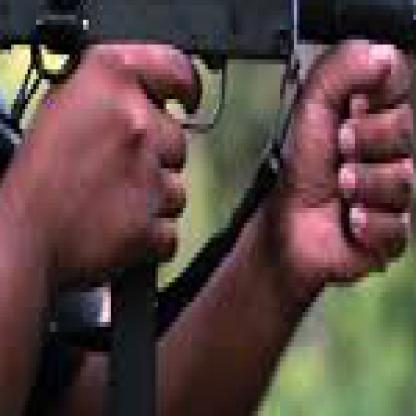gun: (22, 0, 189, 159)
